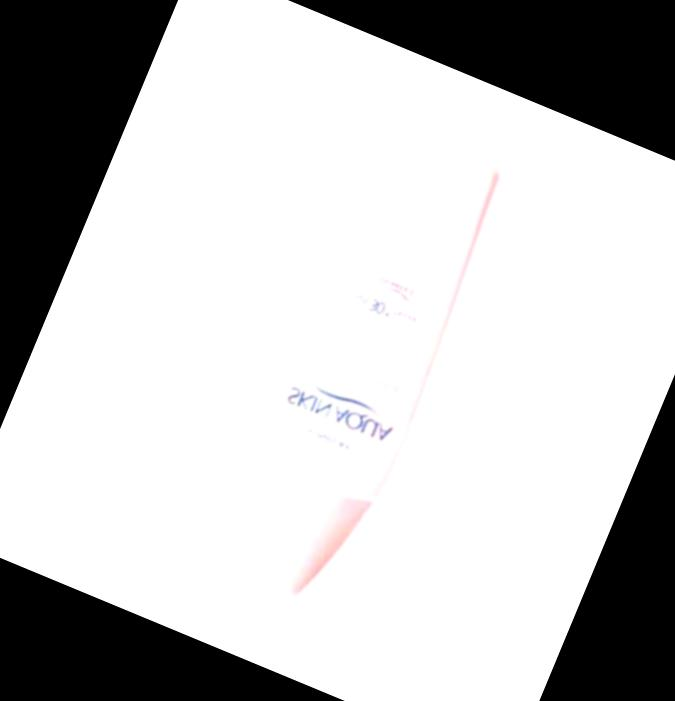cosmetic: (201, 113, 517, 618)
